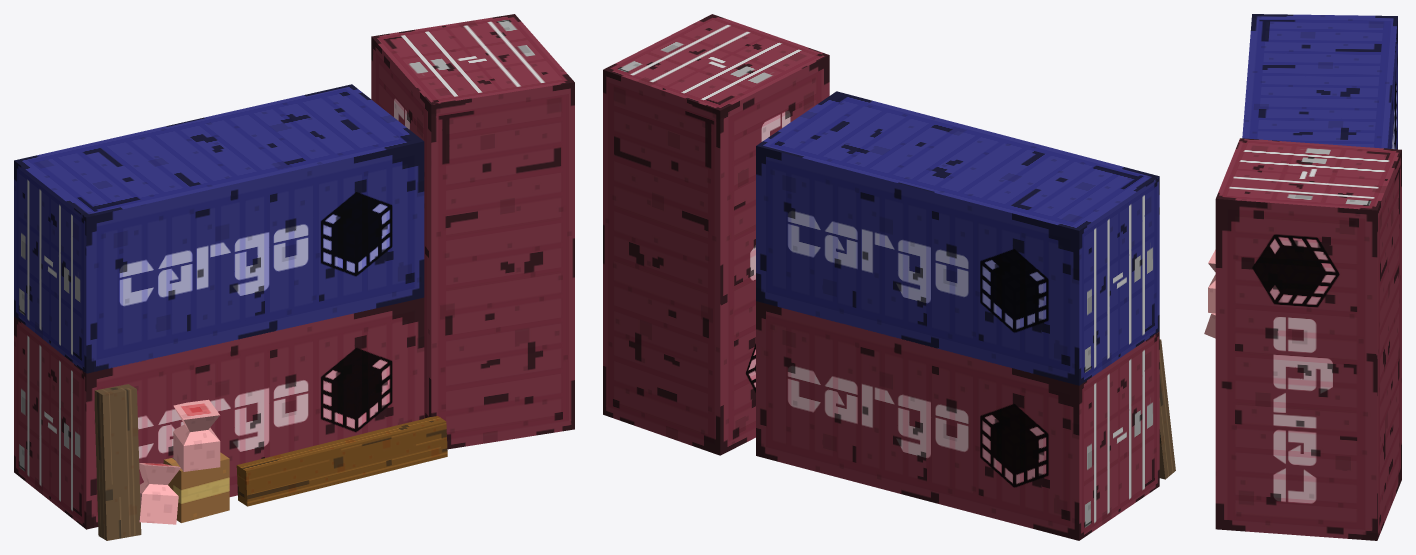
Rendered from C2_Garbage_03-2.FBX.
3 renders of one model, left to right at view 1: azimuth 30°, elevation 25°; view 2: azimuth 150°, elevation 25°; view 3: azimuth 270°, elevation 25°, orthographic. The views are drawn at different scales.
Parts seen in each view (by area): view 1: Box041, Box042, Box034, Box014, Box024, C2_Garbage_03-2, Box037, Box038; view 2: Box041, Box042, Box034, Box024; view 3: Box042, Box041, Box037.
Boxes of the visible parts, <box> form: Box041: <box>14,84,424,373</box>; Box042: <box>371,14,574,449</box>; Box034: <box>14,297,424,529</box>; Box014: <box>236,416,447,506</box>; Box024: <box>94,384,141,540</box>; C2_Garbage_03-2: <box>163,452,229,522</box>; Box037: <box>173,399,220,471</box>; Box038: <box>139,463,180,524</box>; Box041: <box>756,91,1159,385</box>; Box042: <box>603,14,829,455</box>; Box034: <box>756,301,1159,540</box>; Box024: <box>1159,339,1175,479</box>; Box042: <box>1215,138,1401,540</box>; Box041: <box>1242,14,1397,149</box>; Box037: <box>1208,249,1215,313</box>.
Size of the model in its own units: 352 by 238 by 128.
3 materials, 3 textured.
